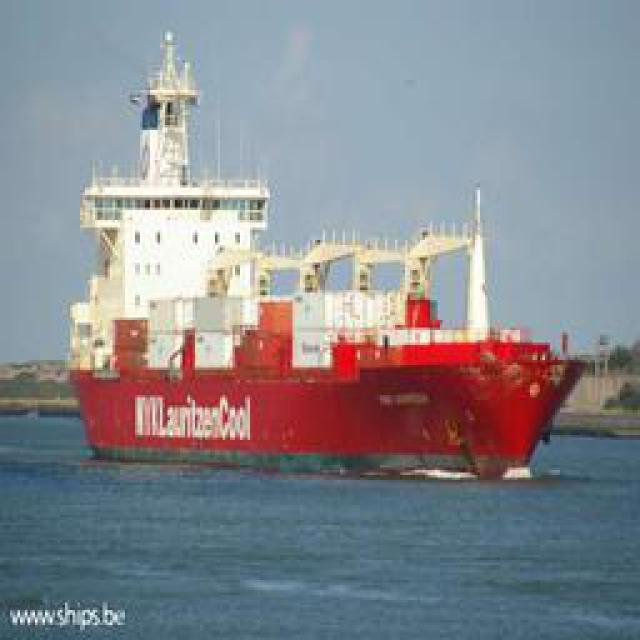Ship: (60, 43, 598, 478)
